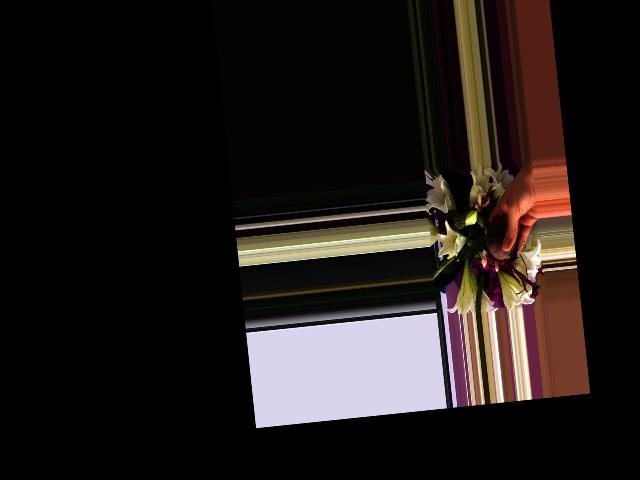beet: (476, 209, 519, 265)
